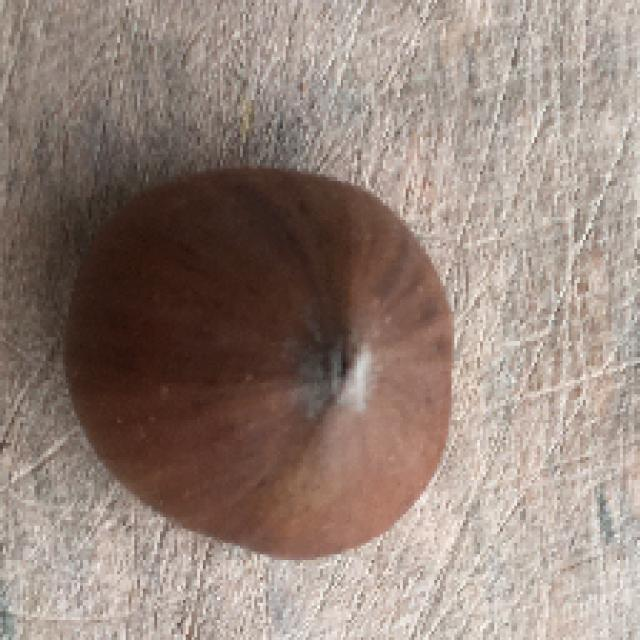qualityHazelnut: (55, 163, 454, 559)
